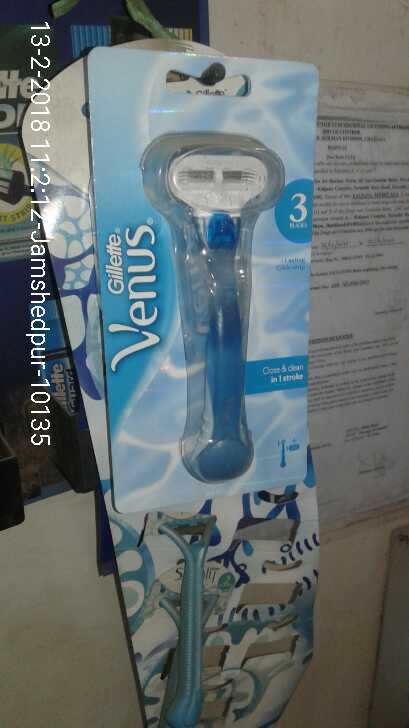venus: (87, 43, 316, 506)
